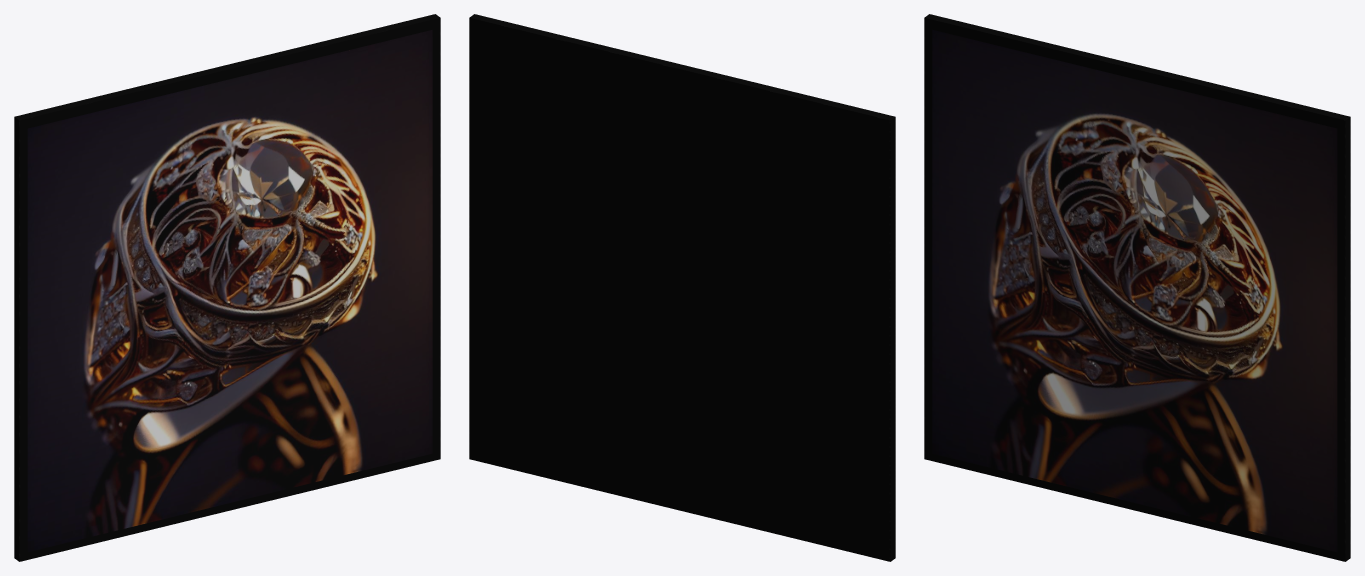
The model's file is Ring2.glb.
3 views of the same model, side by side, from view 1: azimuth 30°, elevation 25°; view 2: azimuth 150°, elevation 25°; view 3: azimuth 330°, elevation 25° (orthographic).
Parts seen in each view (by area): view 1: mesh_id1, node_id27; view 2: node_id27; view 3: mesh_id1, node_id27.
Boxes of the visible parts, x1,y1,x2,y2 form: mesh_id1: [27, 30, 432, 552]; node_id27: [14, 14, 440, 561]; node_id27: [469, 14, 895, 561]; mesh_id1: [932, 30, 1337, 552]; node_id27: [924, 14, 1350, 561].
Size of the model in its own units: 0.9899 by 0.9918 by 0.021.
Materials: 2 (2 with a texture image).
